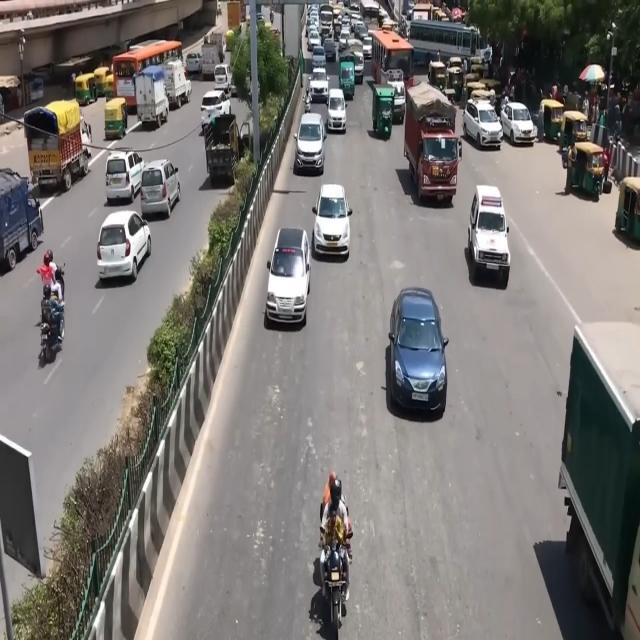auto: (566, 140, 608, 201), (615, 176, 640, 244), (559, 109, 589, 153), (539, 98, 564, 144), (104, 96, 129, 140), (74, 72, 98, 105), (446, 59, 464, 101), (466, 81, 492, 109), (428, 59, 448, 92), (93, 66, 112, 98)
bike-auto: (313, 470, 352, 638), (39, 277, 66, 361)
